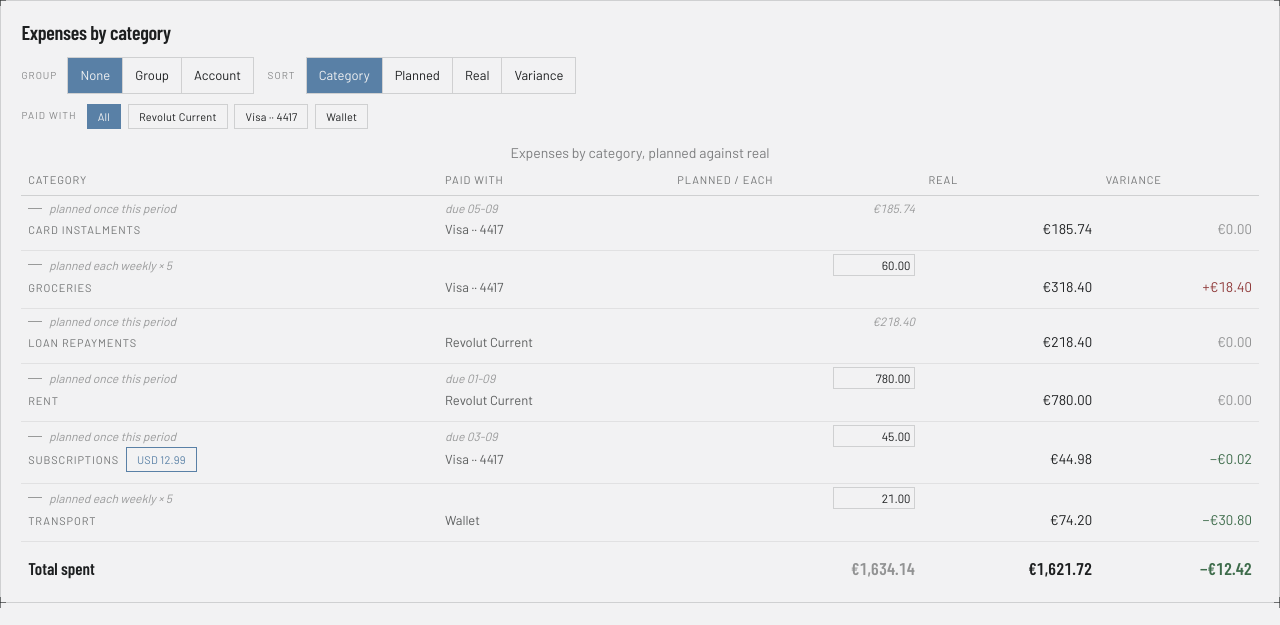
Test case: ExpensesPage - editing the plan (BR-14) › updates the row total as soon as an amount is changed
Replace the text in the field named "Planned amount for Groceries" with "80" at (874, 265), box [833,254,915,276]
Then press Enter
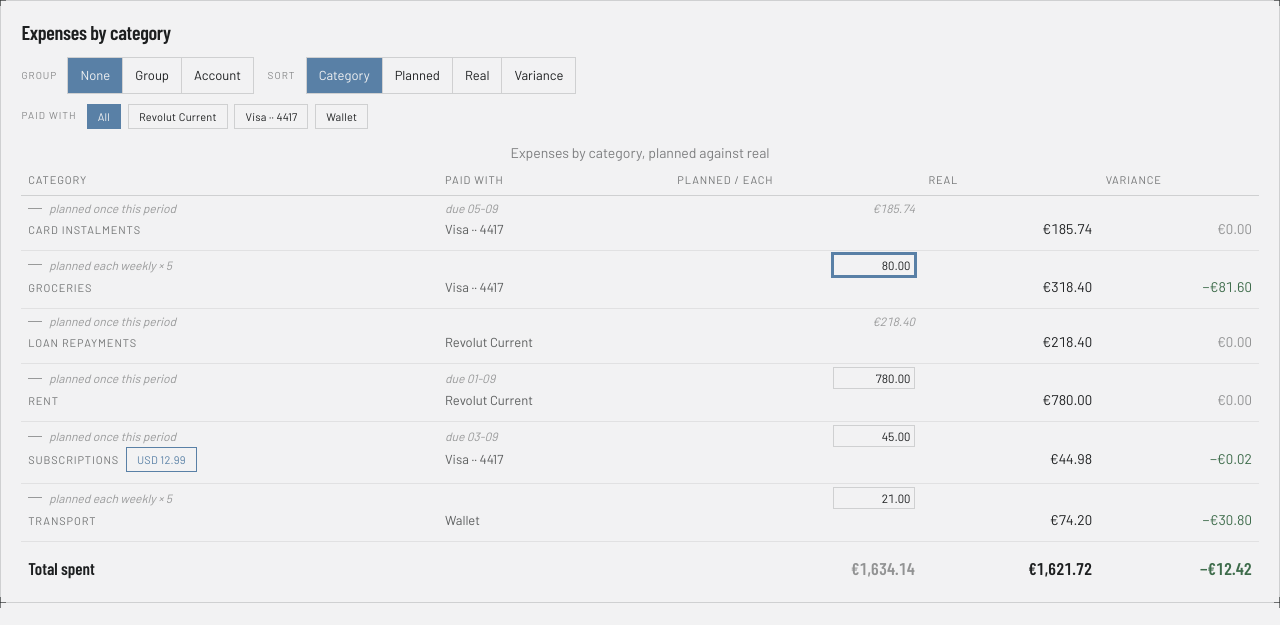
Check: the text "−€81.60" is shown, box [1202,278,1252,295]
